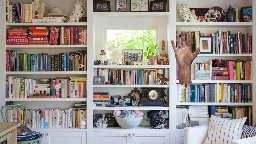Mano_aperta: (168, 29, 202, 69)
